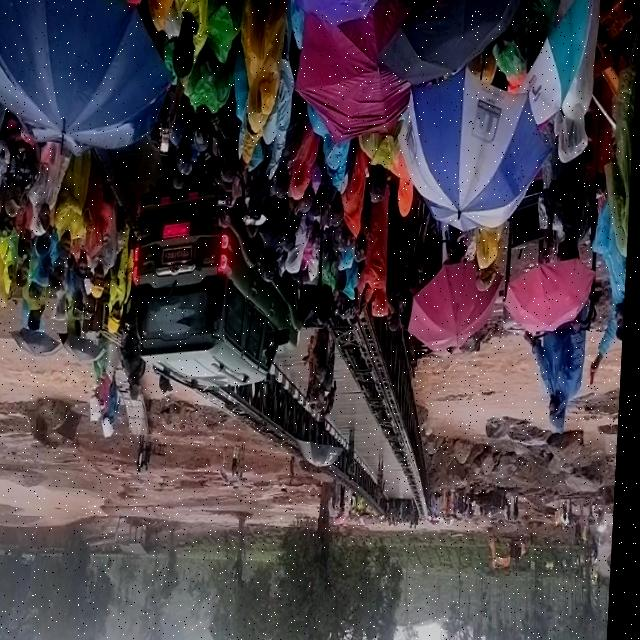plate: (164, 245, 195, 267)
